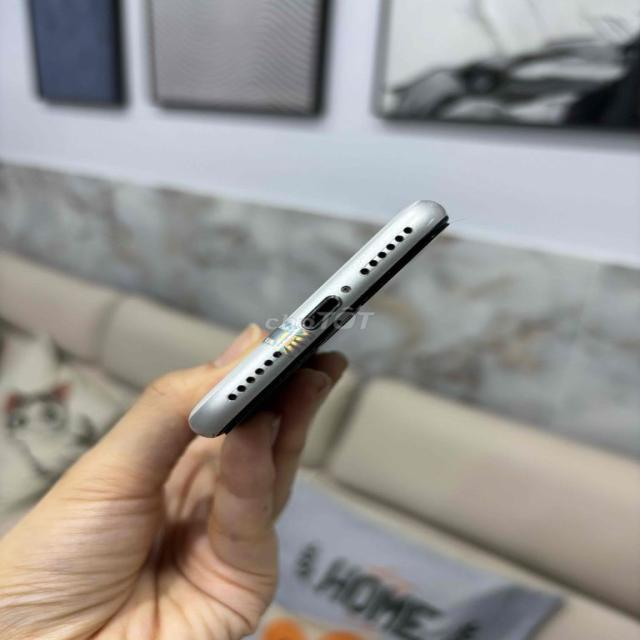gen_7_8: (173, 197, 464, 441)
